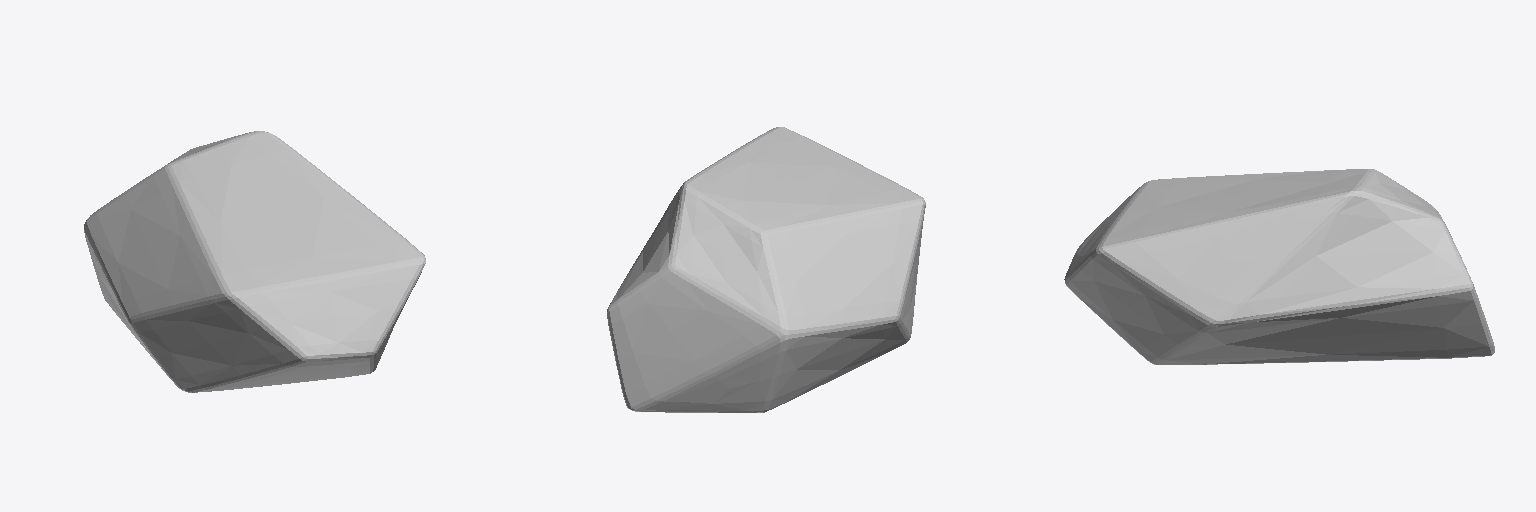
File: rock-01.obj
The picture shows the model from 3 angles: view 1: azimuth 30°, elevation 25°; view 2: azimuth 150°, elevation 25°; view 3: azimuth 270°, elevation 25°; orthographic projection.
Visible parts, largest first — view 1: rock_01; view 2: rock_01; view 3: rock_01.
Part boxes in pixels (left/top/right/bottom): rock_01: left=84, top=131, right=425, bottom=392; rock_01: left=607, top=127, right=925, bottom=412; rock_01: left=1064, top=169, right=1494, bottom=364.
Bounding box in the file's own units: 1.03 × 0.6692 × 1.51.